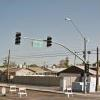Traffic light: (10, 23, 65, 53)
